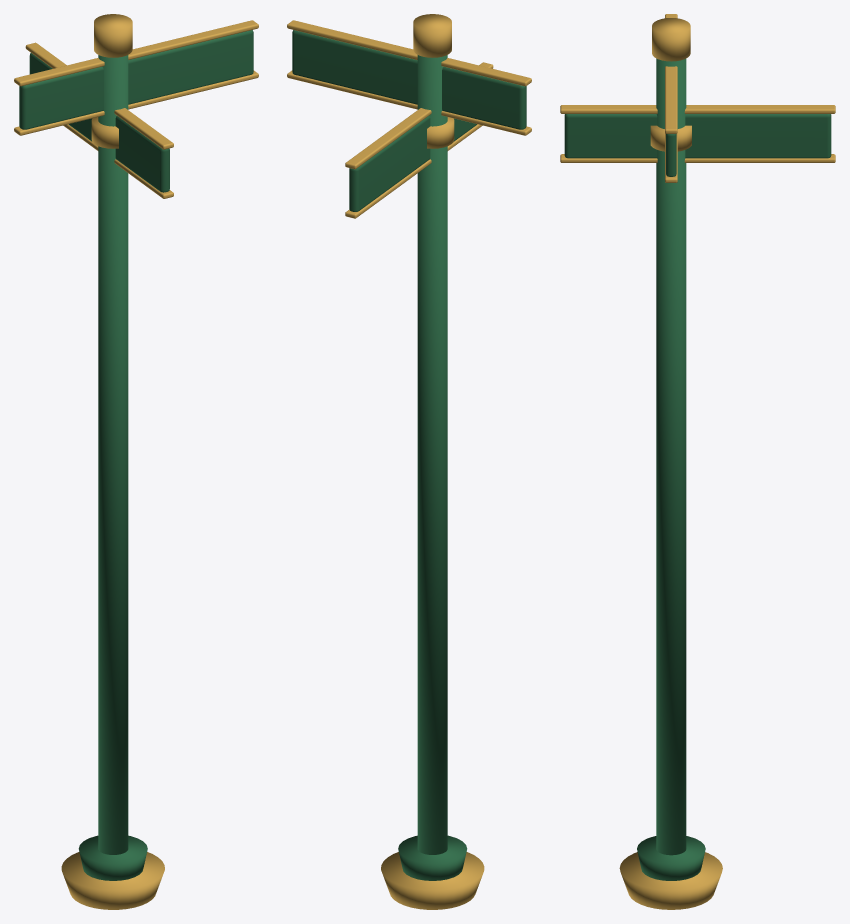
Rendered from street_signpost.glb.
The picture shows the model from 3 angles, left to right: view 1: azimuth 30°, elevation 25°; view 2: azimuth 150°, elevation 25°; view 3: azimuth 270°, elevation 25°; orthographic projection.
Visible parts, largest first — view 1: Pole, ArmX, Foot, ArmY, ArmXTopEdge, FootRing, Ball, ArmXBotEdge, ArmYTopEdge, Collar, ArmYBotEdge; view 2: Pole, ArmX, ArmY, Foot, ArmXTopEdge, FootRing, Ball, ArmXBotEdge, ArmYTopEdge, ArmYBotEdge, Collar; view 3: Pole, ArmY, Foot, ArmYTopEdge, FootRing, Ball, ArmYBotEdge, ArmXTopEdge, Collar.
Boxes of the visible parts, x1,y1,x2,y2 form: Pole: (98,55,128,854); ArmX: (19,30,253,129); Foot: (61,852,164,909); ArmY: (29,53,169,192); ArmXTopEdge: (14,20,258,86); FootRing: (78,835,147,880); Ball: (94,14,132,57); ArmXBotEdge: (14,70,258,135); ArmYTopEdge: (25,42,173,149); Collar: (91,117,118,148); ArmYBotEdge: (63,124,173,198); Pole: (417,55,447,854); ArmX: (292,30,526,129); ArmY: (349,116,477,211); Foot: (381,852,484,909); ArmXTopEdge: (287,20,531,86); FootRing: (398,835,467,880); Ball: (413,14,451,57); ArmXBotEdge: (287,70,531,135); ArmYTopEdge: (345,62,493,169); ArmYBotEdge: (345,124,482,218); Collar: (427,117,454,148); Pole: (656,58,686,855); ArmY: (564,114,831,158); Foot: (619,852,722,909); ArmYTopEdge: (560,105,835,113); FootRing: (637,836,705,880); Ball: (652,18,690,61); ArmYBotEdge: (560,154,835,162); ArmXTopEdge: (665,14,677,133); Collar: (650,125,691,151).
Size of the model in its own units: 0.6486 by 2.25 by 0.6486.
